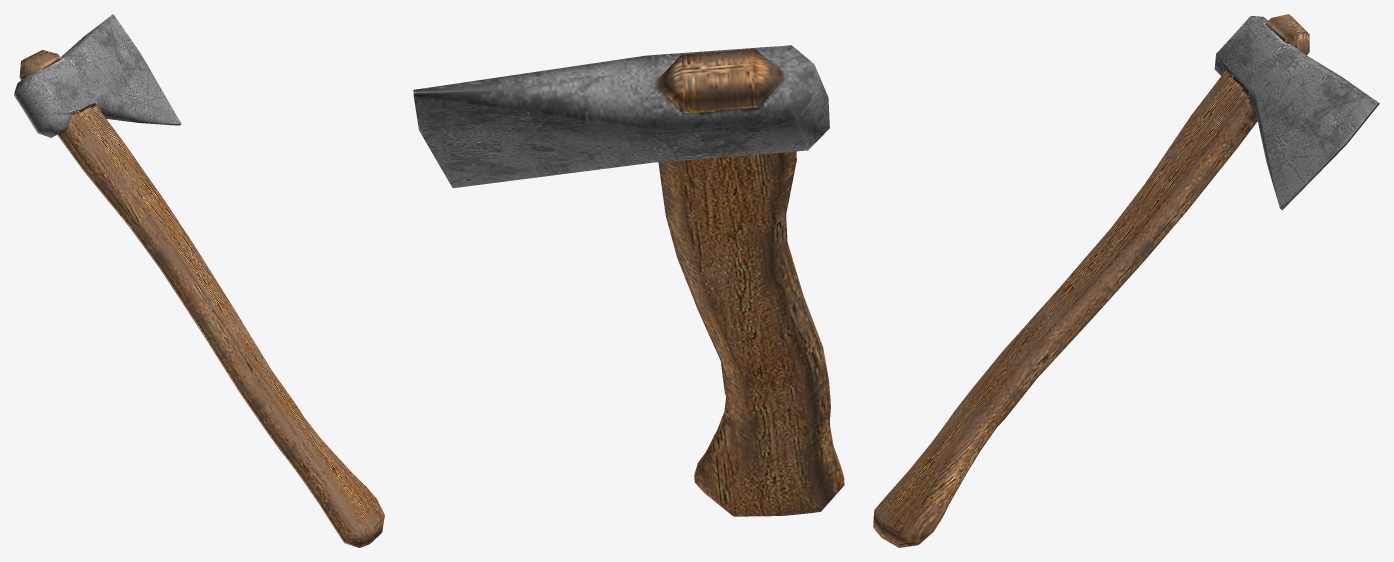
Rendered from ps1_style_axe.glb.
3 renders of one model, left to right at view 1: azimuth 30°, elevation 25°; view 2: azimuth 150°, elevation 25°; view 3: azimuth 270°, elevation 25°, orthographic. The views are drawn at different scales.
Visible parts, largest first — view 1: Cube, Cube.001; view 2: Cube, Cube.001; view 3: Cube, Cube.001.
Part boxes in pixels (x1,y1,x2,y2): Cube: (19, 50, 384, 547); Cube.001: (14, 14, 181, 137); Cube: (657, 49, 844, 516); Cube.001: (413, 45, 829, 188); Cube: (873, 14, 1309, 547); Cube.001: (1214, 16, 1379, 210).
Size of the model in its own units: 1.95 by 3.44 by 3.62.
Materials: 2 (2 with a texture image).
